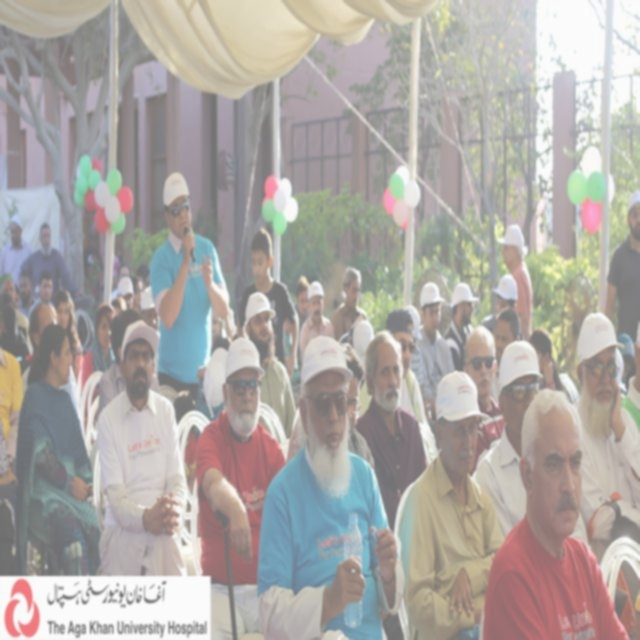pessoa: (252, 333, 408, 639), (482, 386, 635, 638), (396, 369, 506, 639), (194, 336, 288, 638), (94, 318, 190, 578), (475, 340, 588, 550), (13, 321, 102, 576), (148, 171, 230, 406), (572, 308, 640, 541), (354, 328, 428, 537), (354, 307, 440, 469), (234, 226, 300, 380), (242, 289, 299, 442), (604, 188, 640, 394), (461, 322, 507, 478), (97, 307, 160, 407), (414, 279, 457, 420), (0, 347, 25, 576), (80, 302, 116, 446), (340, 338, 376, 474), (18, 221, 76, 305), (192, 326, 232, 444), (497, 222, 534, 340), (402, 302, 438, 422), (528, 328, 580, 406), (442, 280, 480, 375), (490, 304, 522, 408), (298, 279, 336, 364), (103, 249, 150, 314), (52, 290, 84, 384), (480, 272, 524, 340), (331, 264, 368, 343), (0, 212, 34, 286), (620, 312, 640, 433), (342, 320, 376, 391), (290, 274, 312, 372), (26, 272, 58, 332), (26, 297, 57, 355), (82, 227, 106, 300), (618, 330, 640, 394), (10, 265, 36, 314), (0, 274, 29, 316), (139, 284, 161, 333), (184, 433, 198, 489)
